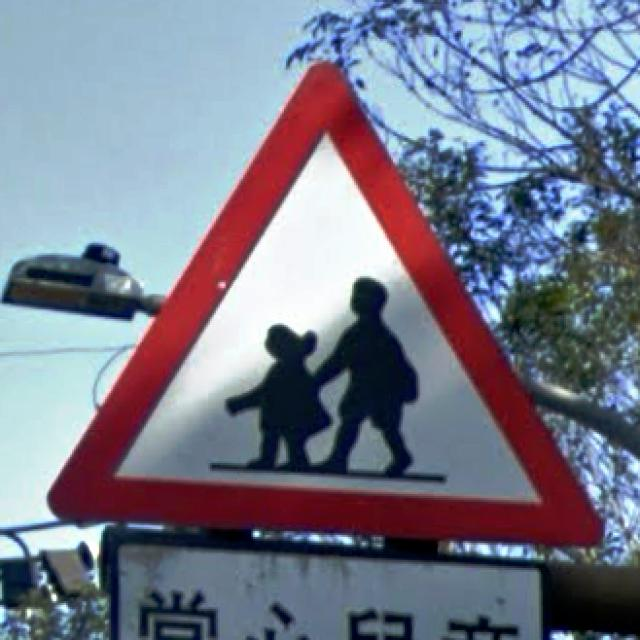childrencross: (51, 62, 602, 544)
